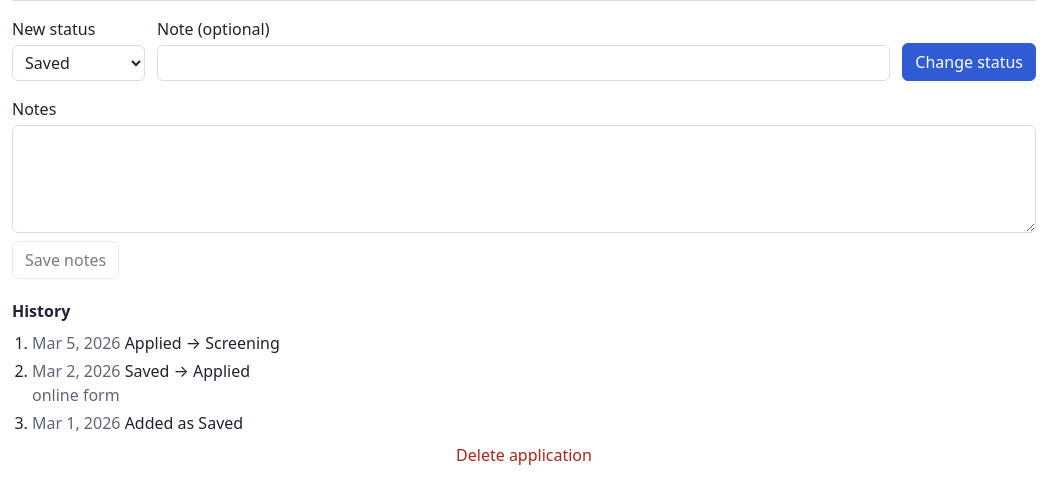
Test: ApplicationDetail › saves notes only after they change
Expected: the button "Save notes" is disabled, [12,241,119,279]
Type "call back Monday" into the text box labelled "Notes" at x=524, y=179, box [12,125,1036,233]
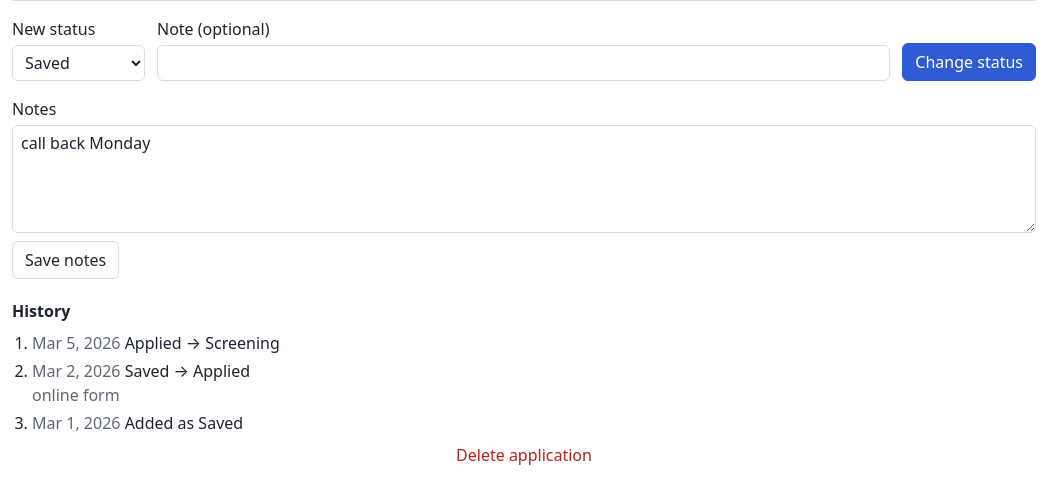
Click the button "Save notes" at x=66, y=260, box [12,241,119,279]
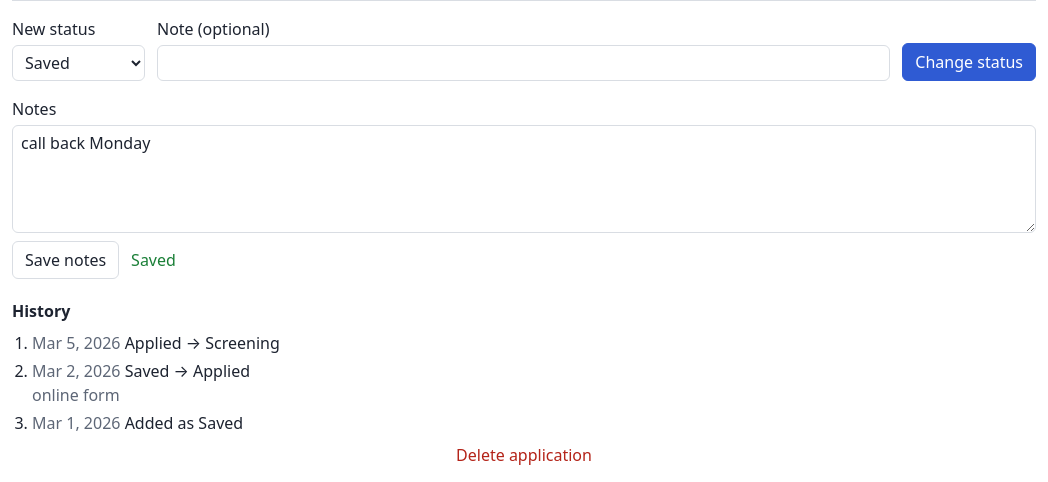
Now the text "Saved" is shown, box [131,248,176,272]
